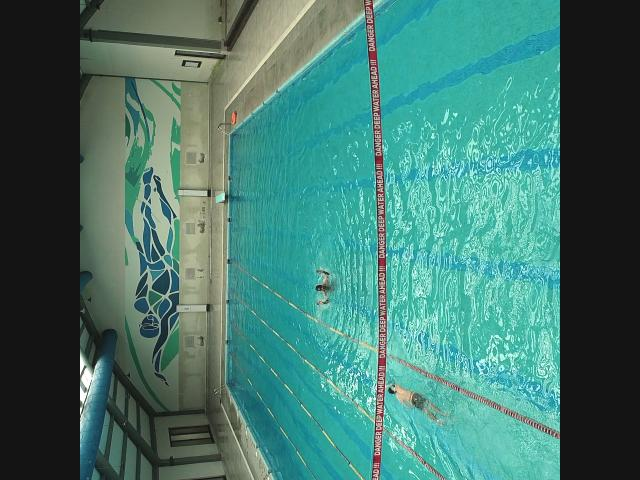swimming: (388, 381, 452, 425), (314, 268, 332, 304)
